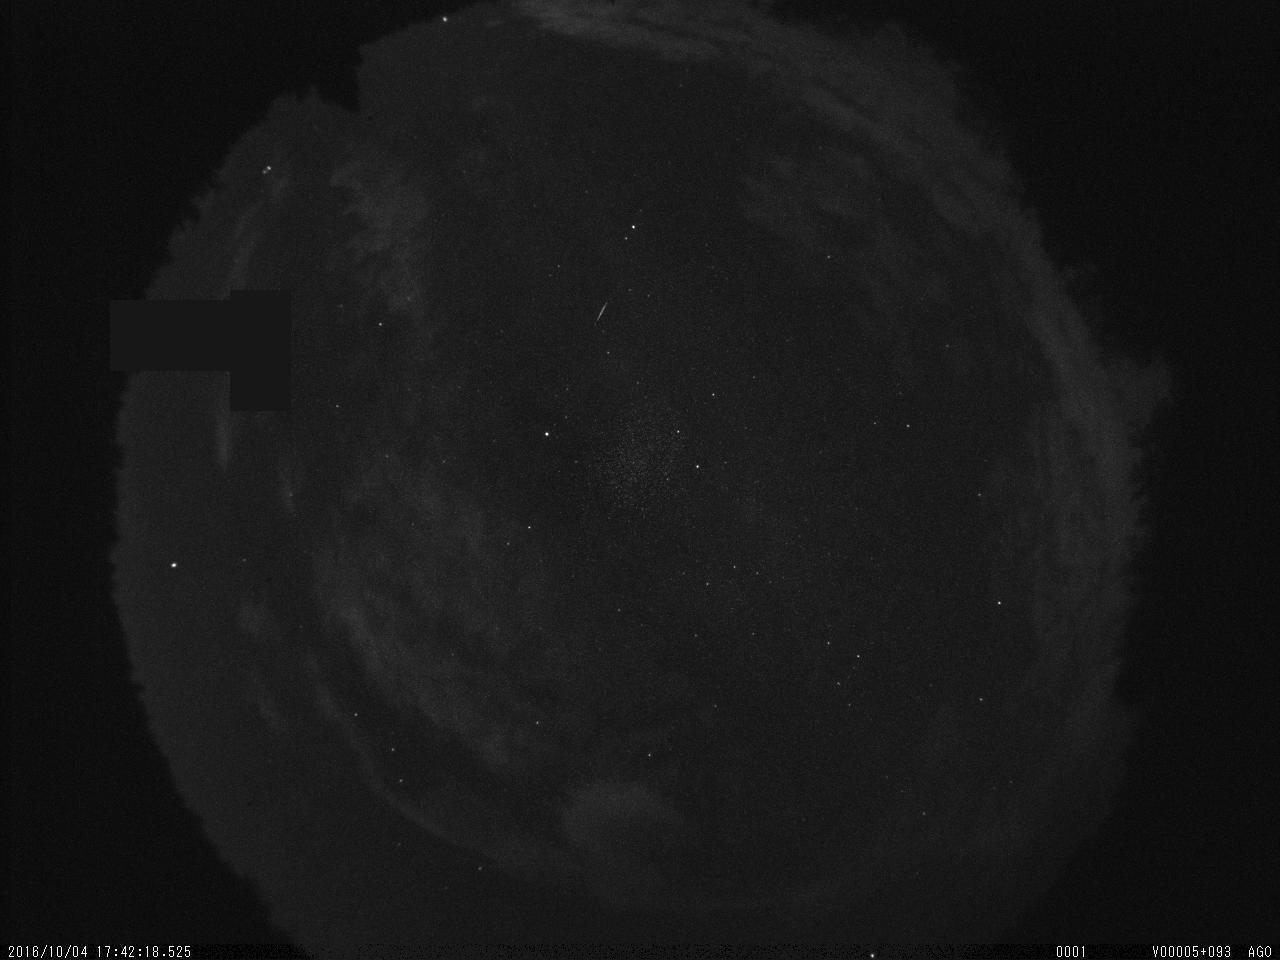Meteor: (592, 296, 609, 326)
